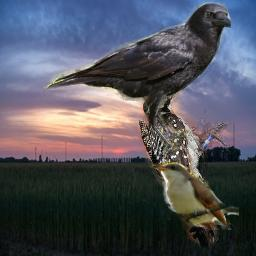Crow: (41, 2, 231, 153)
Cuckoo: (149, 156, 239, 230)
Woodpecker: (131, 77, 241, 248)
